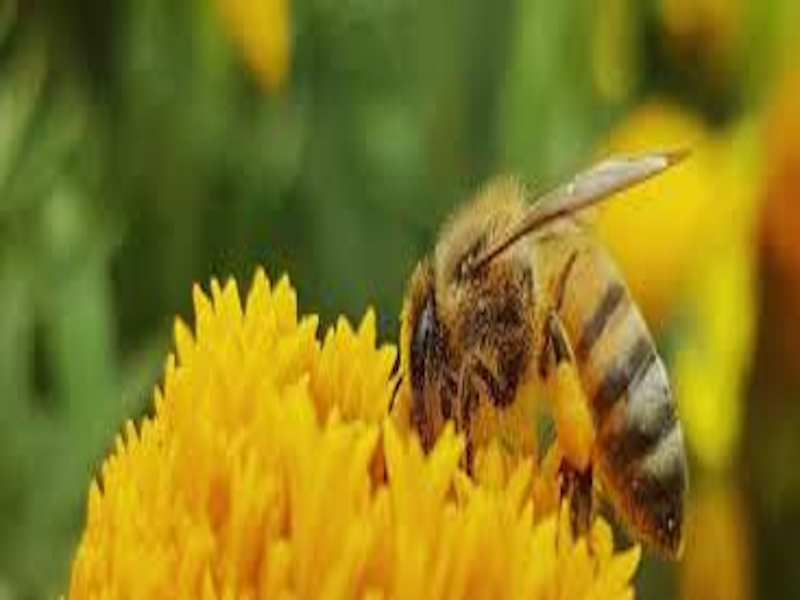abeja: (353, 117, 753, 589)
